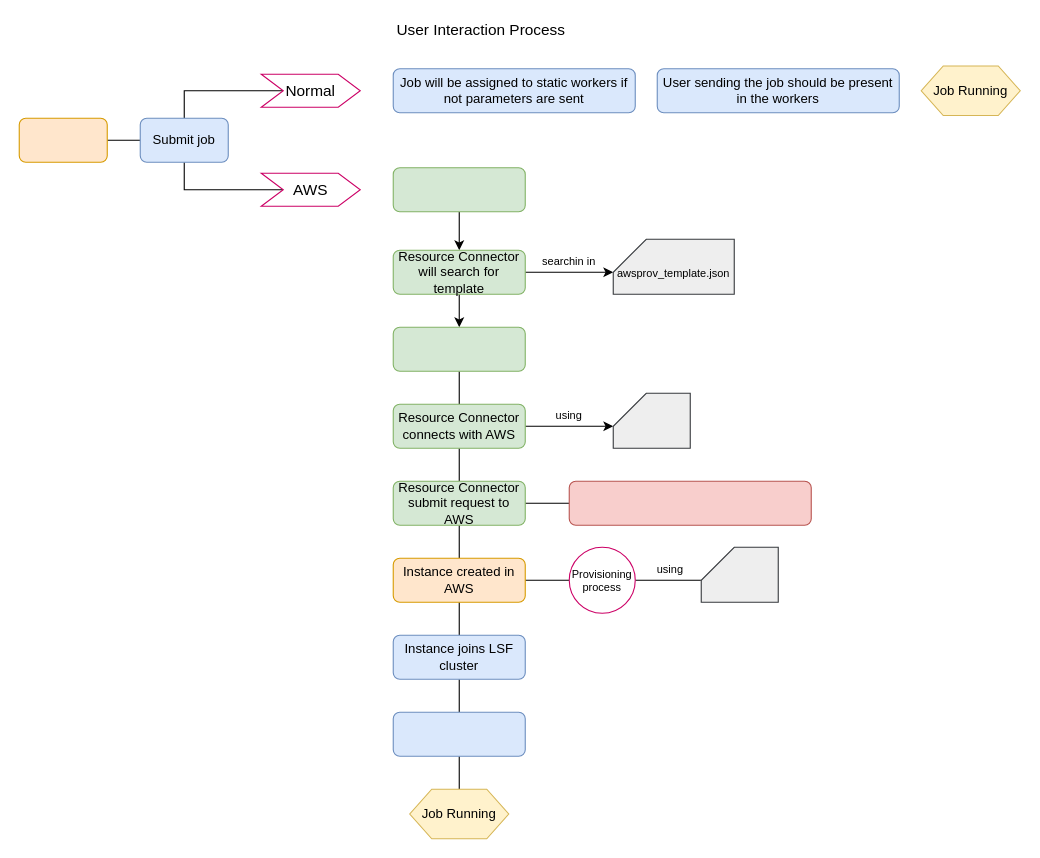
Some shapes in this 1040 by 858 pixel diagram are drawn without their labels. Here are the shapes that lost their labels. From the top down, the centre of each, then its label:
(x=62, y=139): Bastion EC2
(x=458, y=189): Resource Connector triggered
(x=458, y=348): Template found based on the params in the bsub command
(x=651, y=420): credentials
(x=689, y=502): Request based on template params. Can be spot or ondemand request
(x=739, y=574): user_data.sh
(x=458, y=733): Job assigned to the new instance
